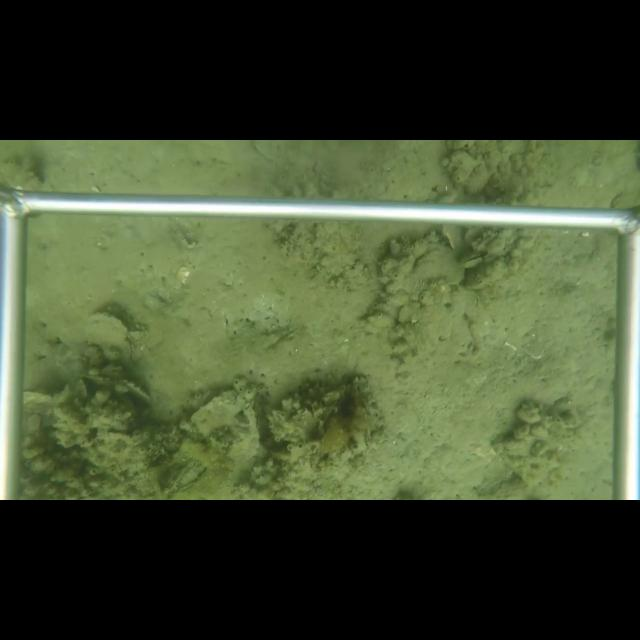Oyster-Closed: (177, 387, 272, 494), (378, 248, 466, 320), (83, 307, 136, 367), (115, 381, 153, 406), (441, 224, 464, 252)
Oyster-Open: (458, 251, 484, 270)
